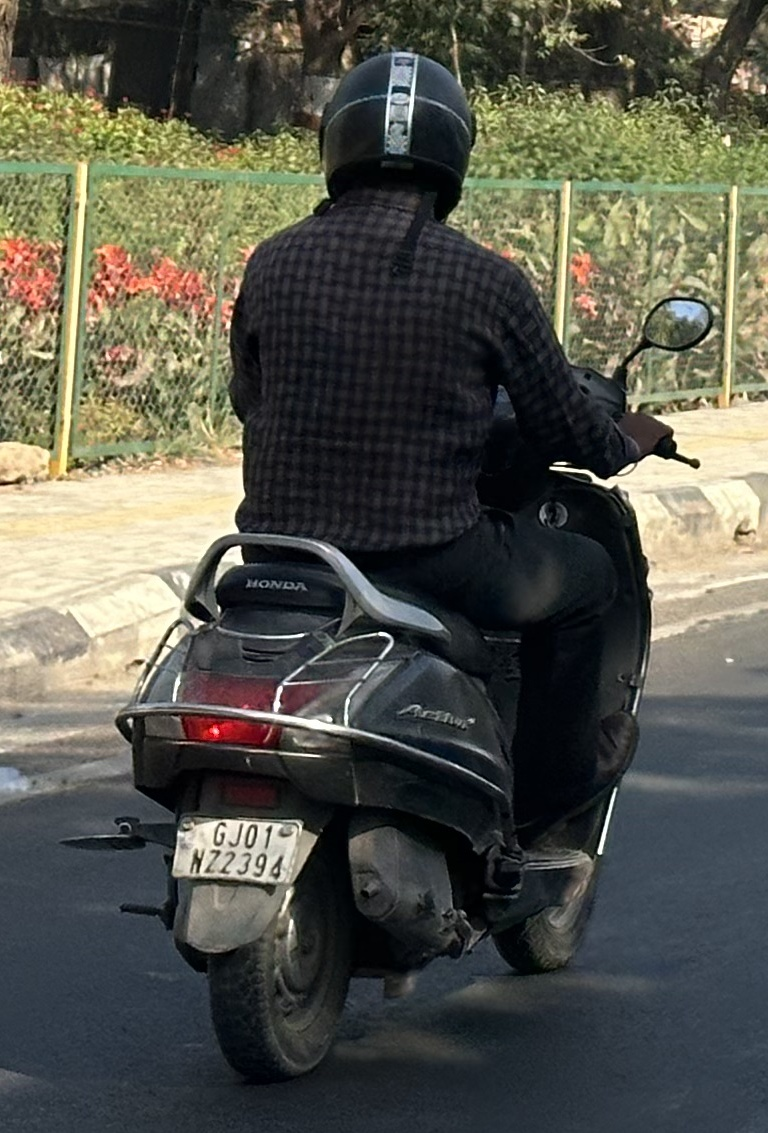BikeWithRider: (46, 32, 744, 1104)
Helmet: (299, 32, 489, 202)
